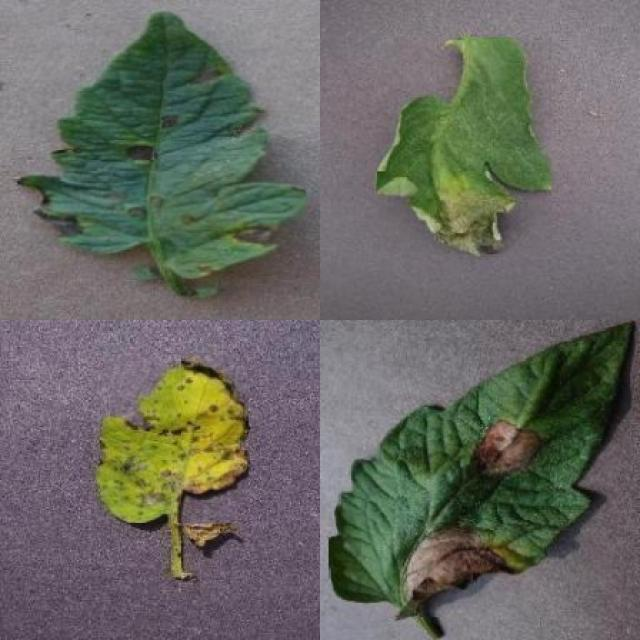Early Blight: (17, 8, 306, 278)
Late Blight: (329, 322, 634, 618), (377, 37, 552, 254)
Septoria: (97, 354, 249, 522)
